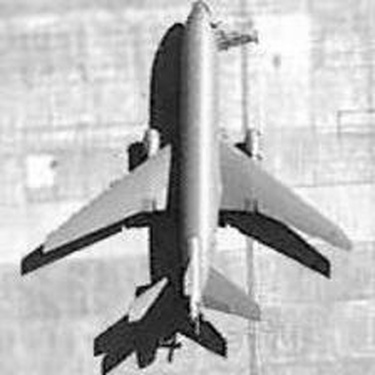airplane: (19, 1, 361, 343)
